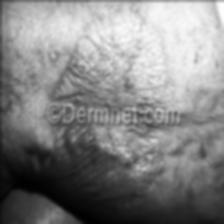Non-Cancerous Skin Condition: (51, 7, 164, 198)
